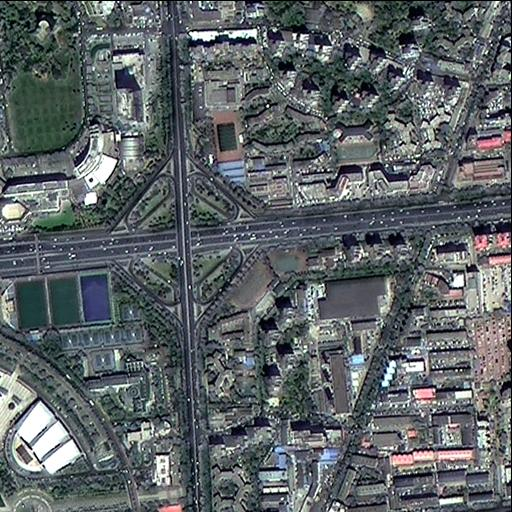school: (200, 260, 279, 345), (262, 241, 342, 280), (333, 116, 379, 165)
